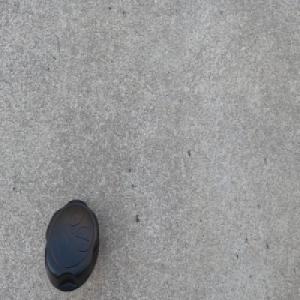FuelCap: (43, 198, 100, 293)
